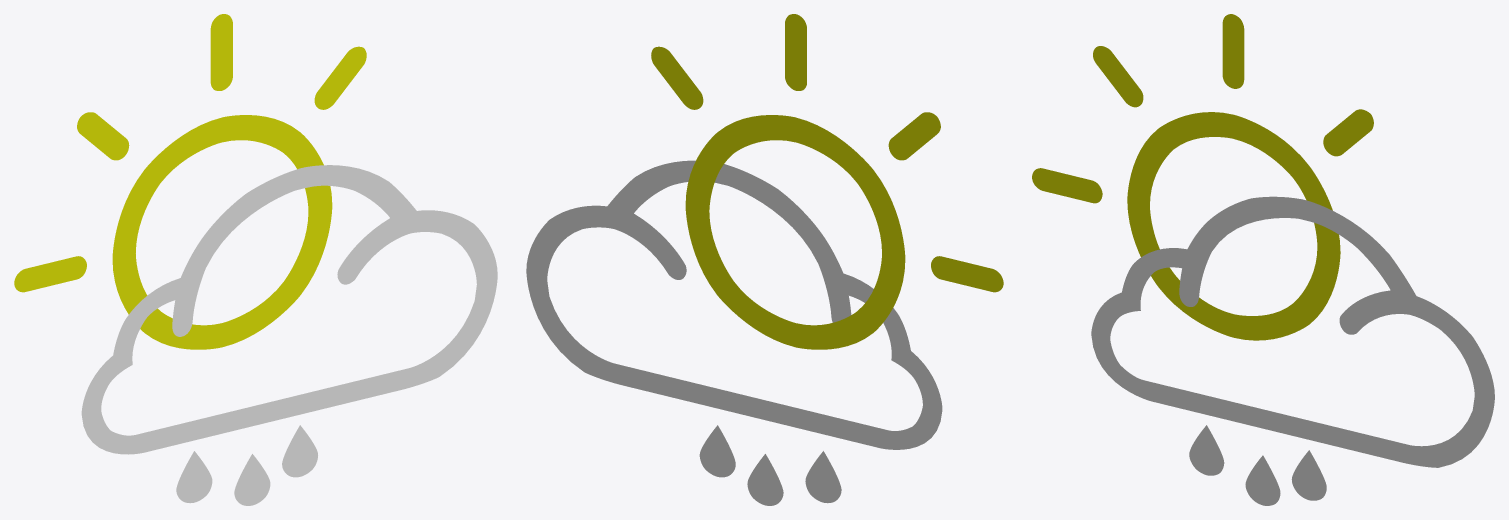
File: ishower.glb
3 renders of one model, left to right at view 1: azimuth 30°, elevation 25°; view 2: azimuth 150°, elevation 25°; view 3: azimuth 330°, elevation 25°, orthographic. The views are drawn at different scales.
Visible parts, largest first — view 1: Cloud.009, Sun part.003, rain drop.005, rain drop.006, rain drop.004; view 2: Cloud.009, Sun part.003, rain drop.004, rain drop.006, rain drop.005; view 3: Cloud.009, Sun part.003, rain drop.005, rain drop.004, rain drop.006.
Boxes of the visible parts, x1,y1,x2,y2 form: Cloud.009: (81,165,497,454); Sun part.003: (14,14,366,349); rain drop.005: (176,451,212,503); rain drop.006: (282,425,317,477); rain drop.004: (234,454,270,505); Cloud.009: (526,160,942,449); Sun part.003: (651,14,1003,349); rain drop.004: (747,454,783,505); rain drop.006: (699,425,735,477); rain drop.005: (805,451,841,503); Cloud.009: (1091,196,1494,467); Sun part.003: (1032,14,1373,340); rain drop.005: (1189,425,1224,475); rain drop.004: (1245,455,1280,505); rain drop.006: (1291,450,1326,500).
Size of the model in its own units: 0.7633 by 0.7574 by 0.00853.
